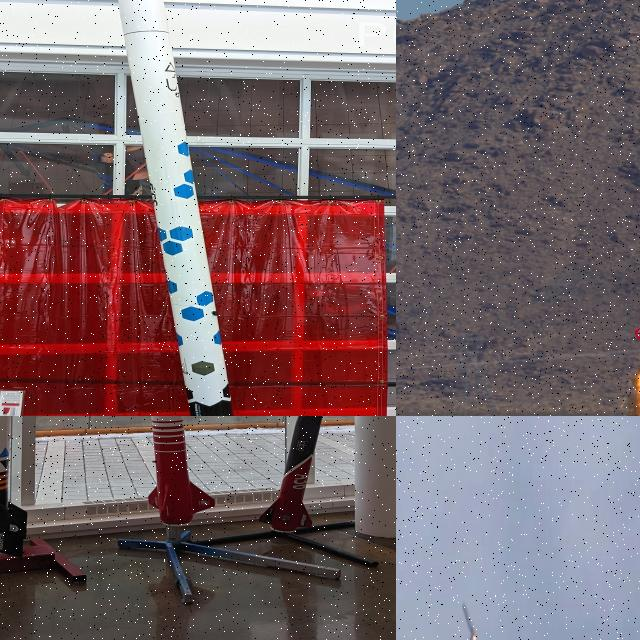Rocket: (119, 0, 234, 416), (148, 416, 215, 528), (259, 416, 323, 533), (462, 602, 476, 640)
